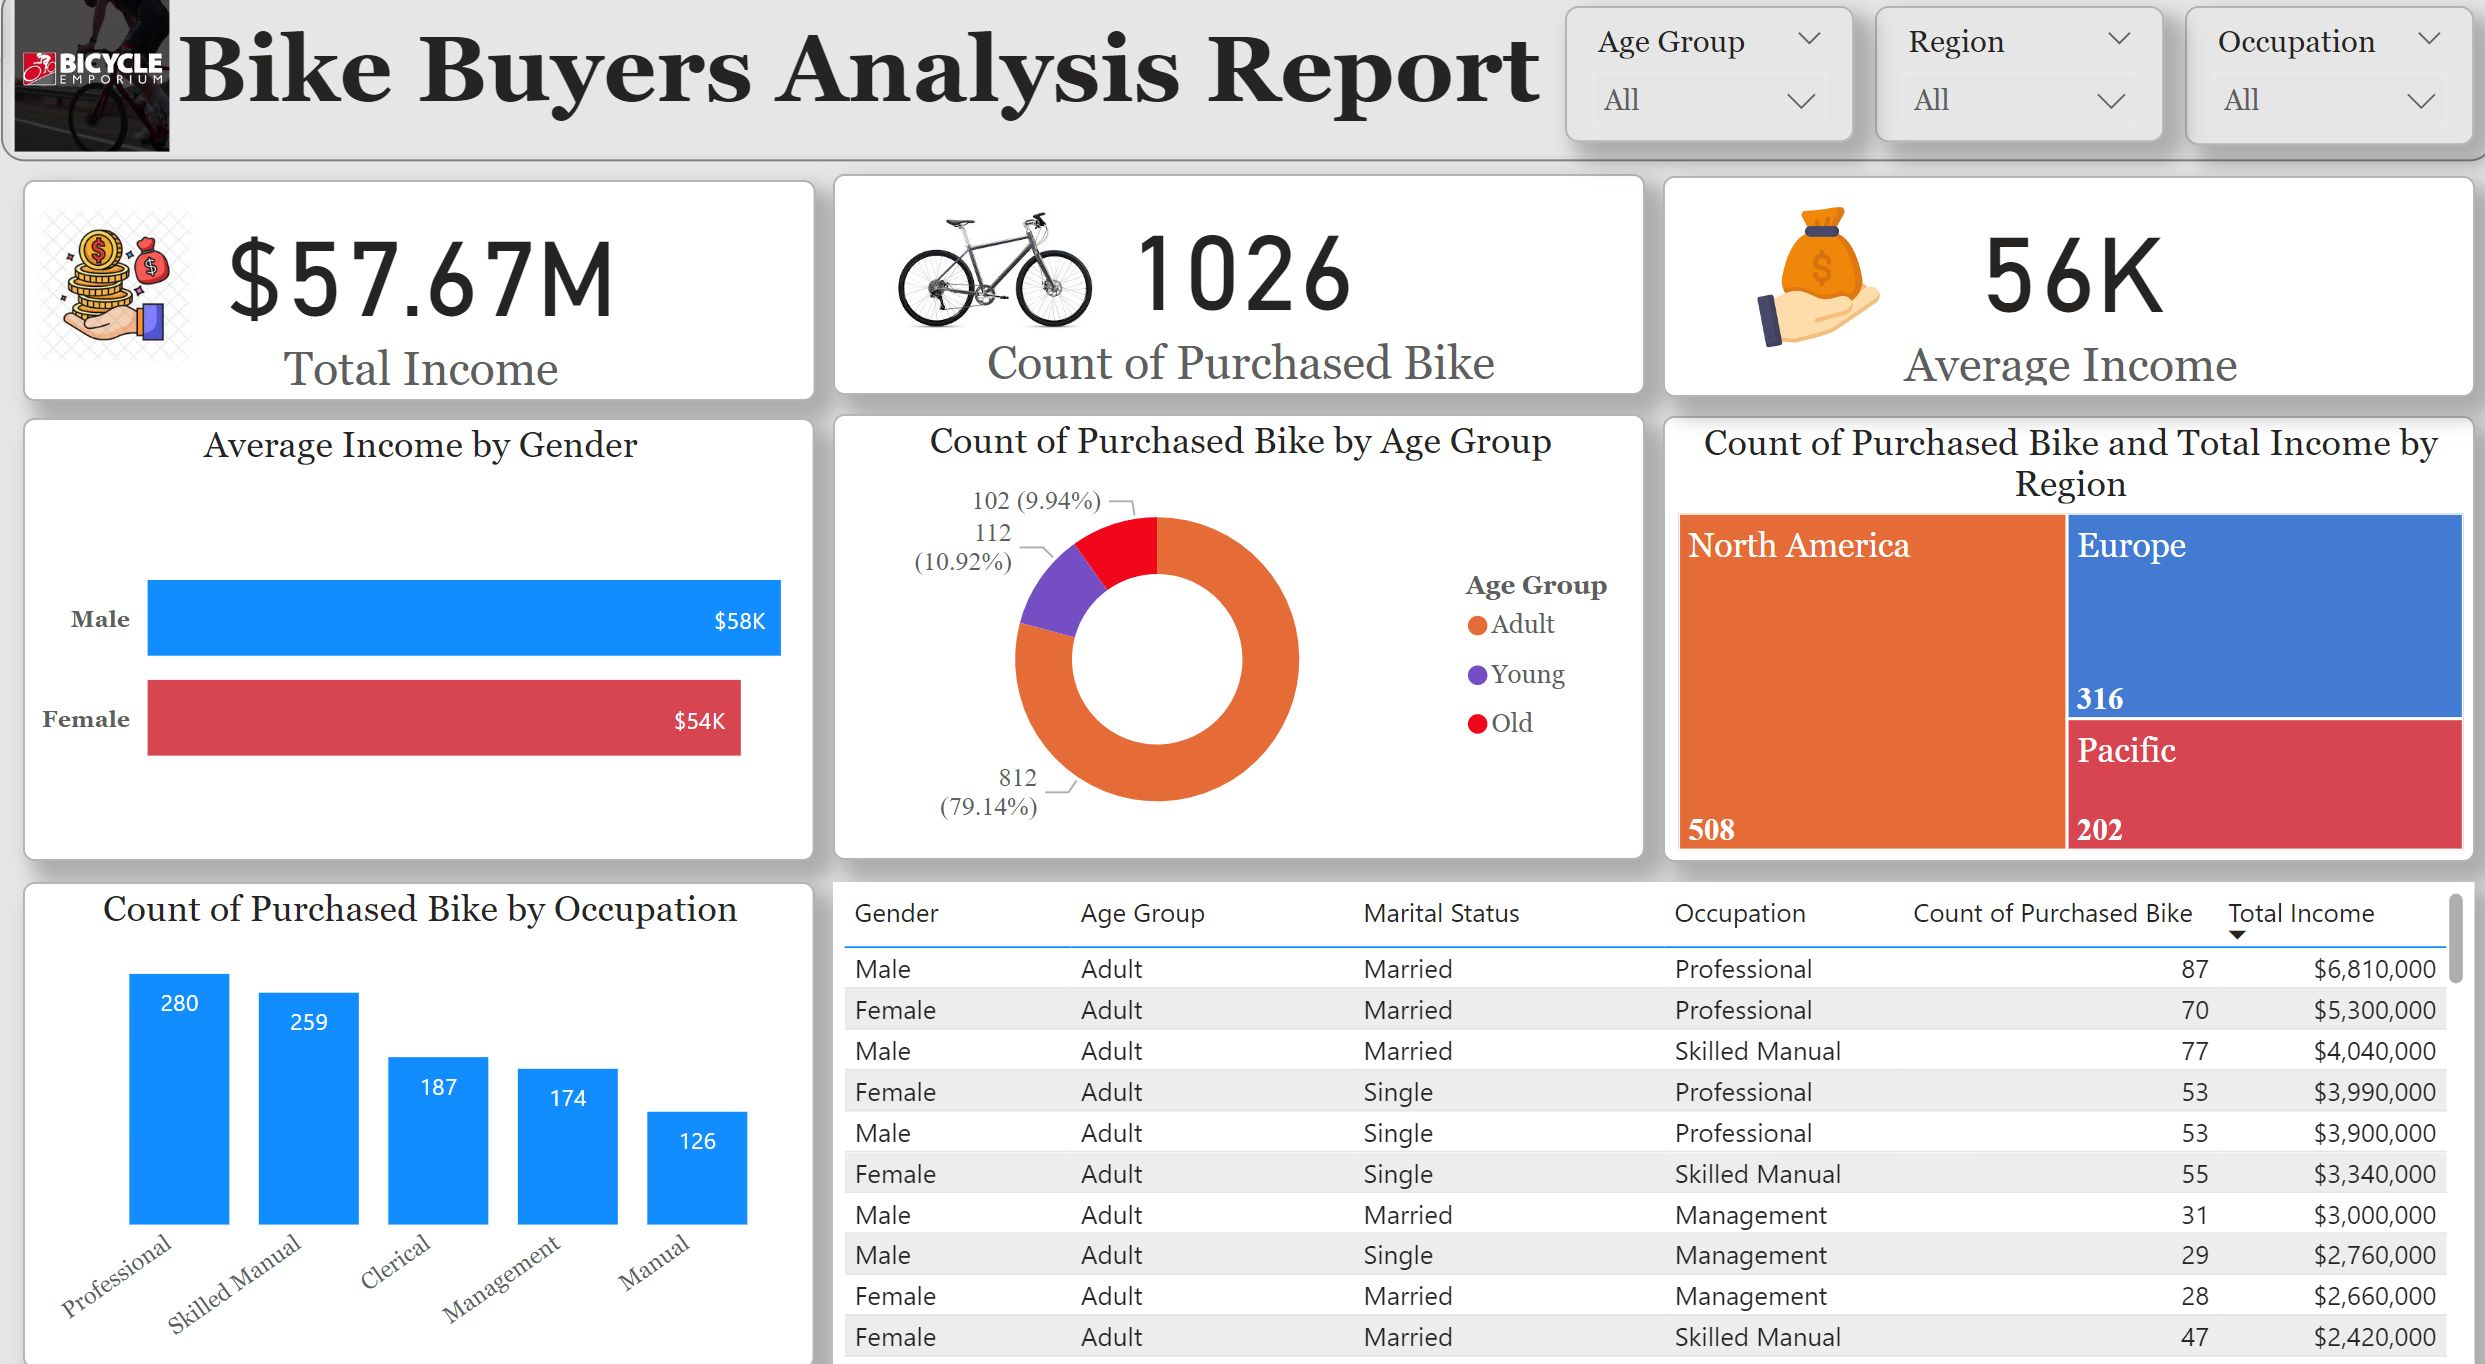

Layout of this report page (visuals, bound fields, positions):
{"tool":"powerbi","page":{"name":"BIKE BUYERS ANALYSIS REPORT","canvas":[1280,720],"ordinal":0},"visuals":[{"type":"shape","box":[0,0,1280,89.2],"z":0},{"type":"textbox","box":[85.3,9.3,718.2,73.6],"z":1000},{"type":"card","fields":{"Values":["bike_buyers.Total Income"]},"box":[11.7,98.1,407,113.3],"z":2000},{"type":"card","fields":{"Values":["CountNonNull(bike_buyers.Purchased Bike)"]},"box":[427.4,95.8,416.9,113.3],"z":3000},{"type":"barChart","title":"Average Income by Gender","fields":{"Category":["bike_buyers.Gender"],"Y":["Avg(bike_buyers.Income)"]},"box":[11.7,220.7,406.4,227.7],"z":4000},{"type":"donutChart","fields":{"Category":["bike_buyers.Age Group"],"Y":["CountNonNull(bike_buyers.Purchased Bike)"]},"box":[426.9,218.4,417,228.9],"z":5000},{"type":"treemap","fields":{"Group":["bike_buyers.Region"],"Values":["CountNonNull(bike_buyers.Purchased Bike)"]},"box":[853.7,219.3,417,228.9],"z":6000},{"type":"columnChart","fields":{"Category":["bike_buyers.Occupation"],"Y":["CountNonNull(bike_buyers.Purchased Bike)"]},"box":[11.7,459,406.4,249.9],"z":7000},{"type":"tableEx","fields":{"Values":["bike_buyers.Gender","bike_buyers.Age Group","bike_buyers.Marital Status","bike_buyers.Occupation","bike_buyers.Purchased Bike","bike_buyers.Total Income"]},"box":[427.4,459,843.2,248.8],"z":8000},{"type":"slicer","fields":{"Values":["bike_buyers.Occupation"]},"box":[1122,9.5,148.5,71.6],"z":9000},{"type":"slicer","fields":{"Values":["bike_buyers.Region"]},"box":[962.7,9.5,148.5,70.2],"z":10000},{"type":"slicer","fields":{"Values":["bike_buyers.Age Group"]},"box":[803.4,9.5,148.5,70.2],"z":11000},{"type":"card","fields":{"Values":["bike_buyers.Average Income"]},"box":[853.7,96.9,416.9,113.3],"z":12000},{"type":"image","box":[0,0,93.4,88.8],"z":13000},{"type":"image","box":[11.7,106.3,94.6,93.4],"z":14000},{"type":"image","box":[435.6,106.3,147.2,74.7],"z":15000},{"type":"image","box":[877.1,106.3,112.1,85.3],"z":16000}]}

Visuals, with their boxes in screenshot pixels (x1, y1, x2, y2), scaled from the page's 1280x720 canvas onto the 2485x1364 screenshot:
shape: x1=0 y1=0 x2=2484 y2=169
textbox: x1=166 y1=18 x2=1560 y2=157
card - bike_buyers.Total Income: x1=23 y1=186 x2=813 y2=400
card - CountNonNull(bike_buyers.Purchased Bike): x1=830 y1=181 x2=1639 y2=396
"Average Income by Gender" barChart: x1=23 y1=418 x2=812 y2=849
donutChart - bike_buyers.Age Group x CountNonNull(bike_buyers.Purchased Bike): x1=829 y1=414 x2=1638 y2=847
treemap - bike_buyers.Region x CountNonNull(bike_buyers.Purchased Bike): x1=1657 y1=415 x2=2467 y2=849
columnChart - bike_buyers.Occupation x CountNonNull(bike_buyers.Purchased Bike): x1=23 y1=870 x2=812 y2=1343
tableEx - bike_buyers.Gender x bike_buyers.Age Group: x1=830 y1=870 x2=2467 y2=1341
slicer - bike_buyers.Occupation: x1=2178 y1=18 x2=2467 y2=154
slicer - bike_buyers.Region: x1=1869 y1=18 x2=2157 y2=151
slicer - bike_buyers.Age Group: x1=1560 y1=18 x2=1848 y2=151
card - bike_buyers.Average Income: x1=1657 y1=184 x2=2467 y2=398
image: x1=0 y1=0 x2=181 y2=168
image: x1=23 y1=201 x2=206 y2=378
image: x1=846 y1=201 x2=1131 y2=343
image: x1=1703 y1=201 x2=1920 y2=363
